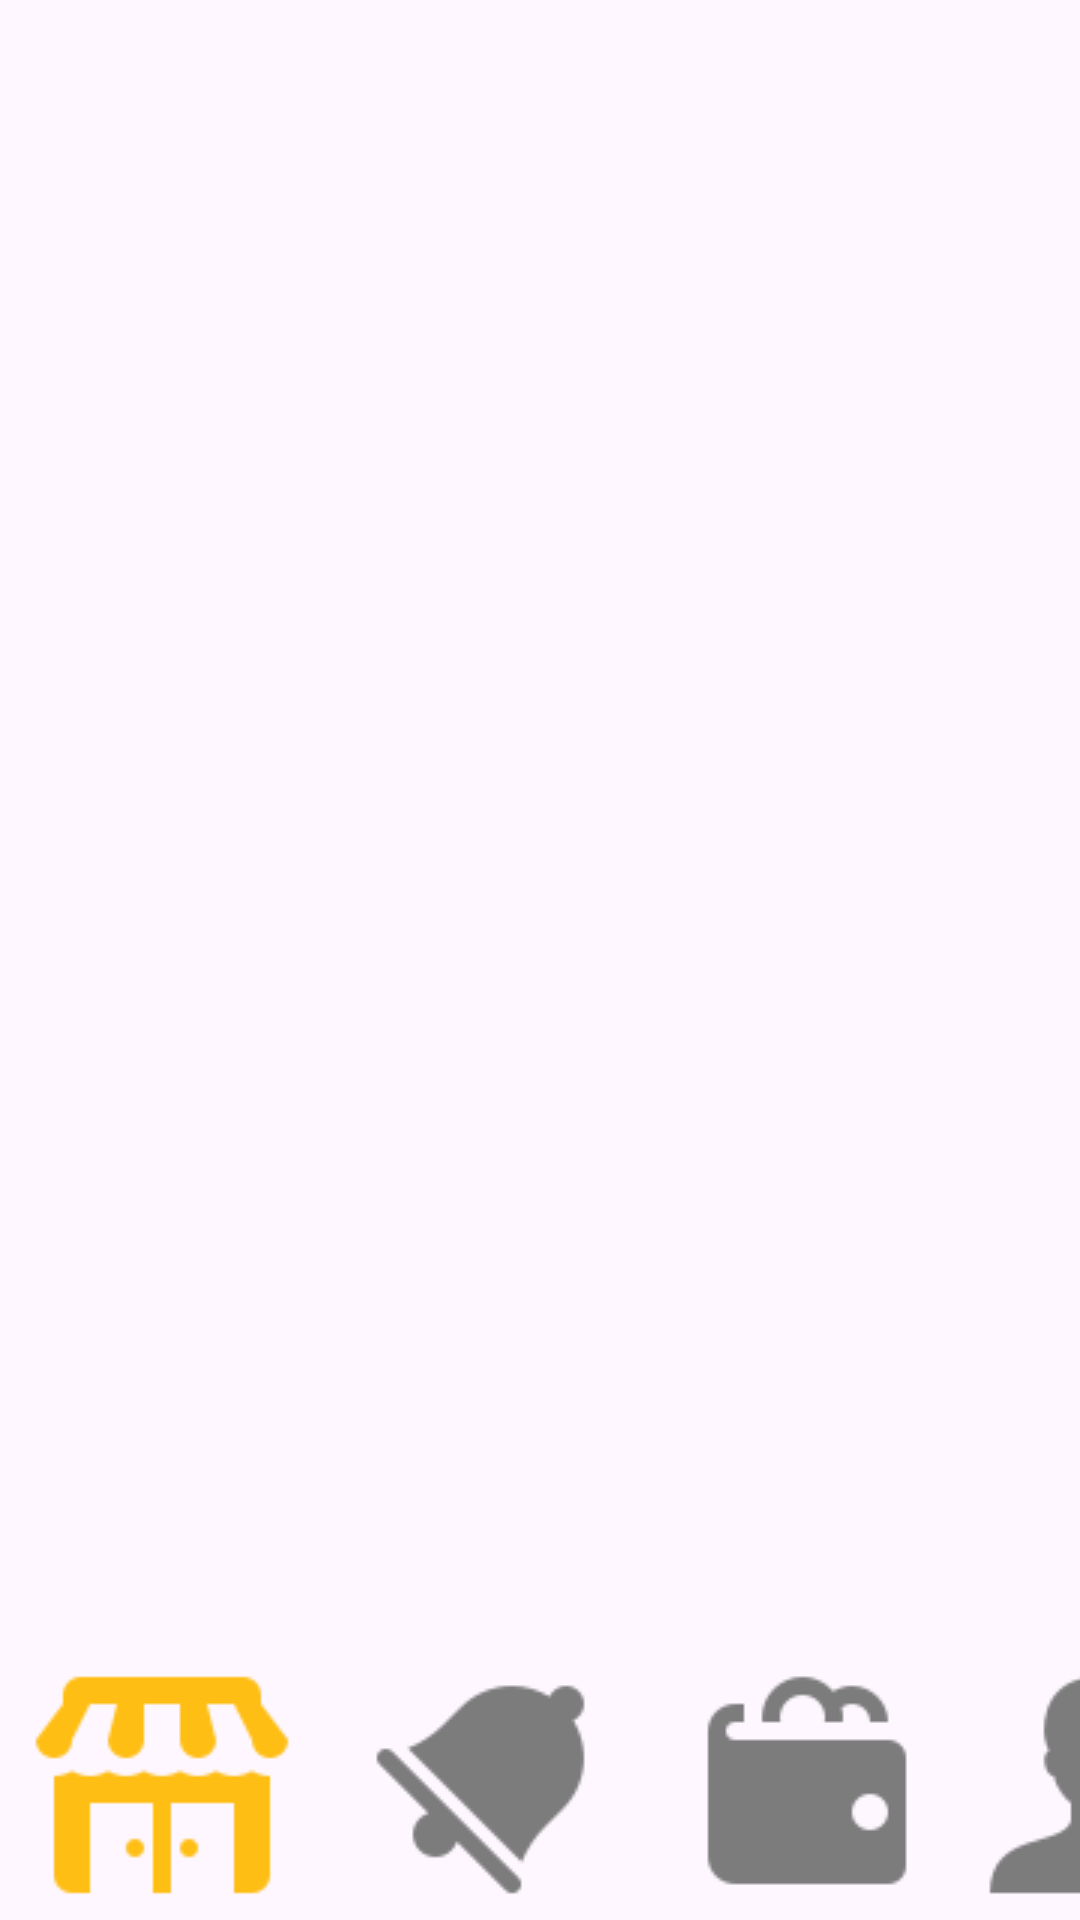

Icons on this 1080*1920 Android screen, each with its box as (x1, y1, x2, y2):
business: (35, 1676, 289, 1894)
notification: (376, 1685, 585, 1894)
wallet: (707, 1676, 907, 1885)
